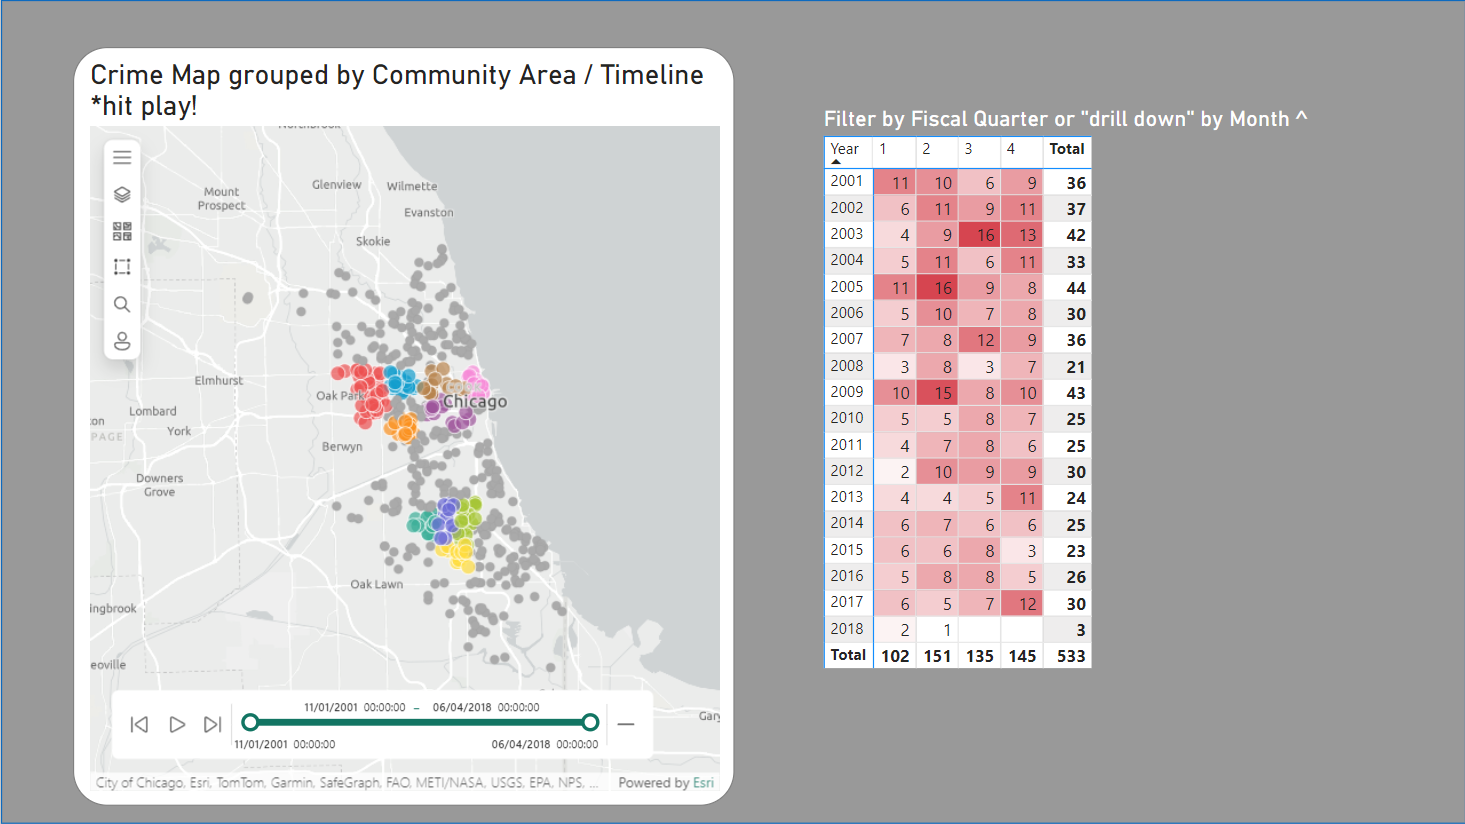

This screenshot's page, from the dashboard's own definition file:
{"tool":"powerbi","page":{"name":"Map Timeline","canvas":[1280,720],"ordinal":1},"visuals":[{"type":"shape","box":[0,0,1280,719.8],"z":500},{"type":"esriVisual","title":"Crime Map grouped by Community Area / Timeline *hit play!","fields":{"Longitude":["Query1.longitude"],"Latitude":["Query1.latitude"],"Color":["CrimeCount By Community.community_area_name"],"Time":["public crime.date"]},"box":[62.5,41.2,577.5,662.5],"z":1000},{"type":"pivotTable","title":"Filter by Fiscal Quarter or \"drill down\" by Month ^","fields":{"Columns":["Calendar.Quarter","Calendar.Month Text"],"Rows":["Calendar.Year"],"Values":["public crime.Total Crimes"]},"box":[713.9,91.4,542.7,505.8],"z":2000}]}

Visuals, with their boxes in screenshot pixels (x1, y1, x2, y2), scaled from the page's 1280x720 canvas onto the 1465x824 screenshot:
shape: bbox=(0, 0, 1464, 823)
"Crime Map grouped by Community Area / Timeline *hit play!" esriVisual: bbox=(72, 47, 732, 805)
"Filter by Fiscal Quarter or "drill down" by Month ^" pivotTable: bbox=(817, 105, 1438, 683)
